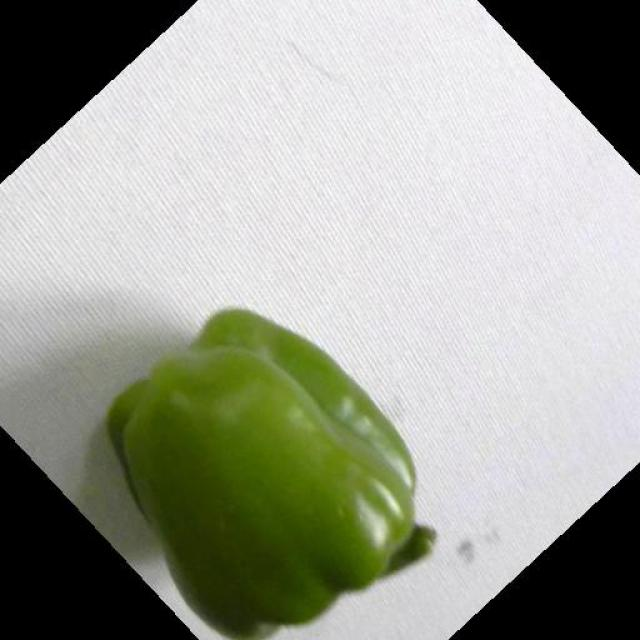Fresh_Capsicum: (107, 271, 472, 624)
